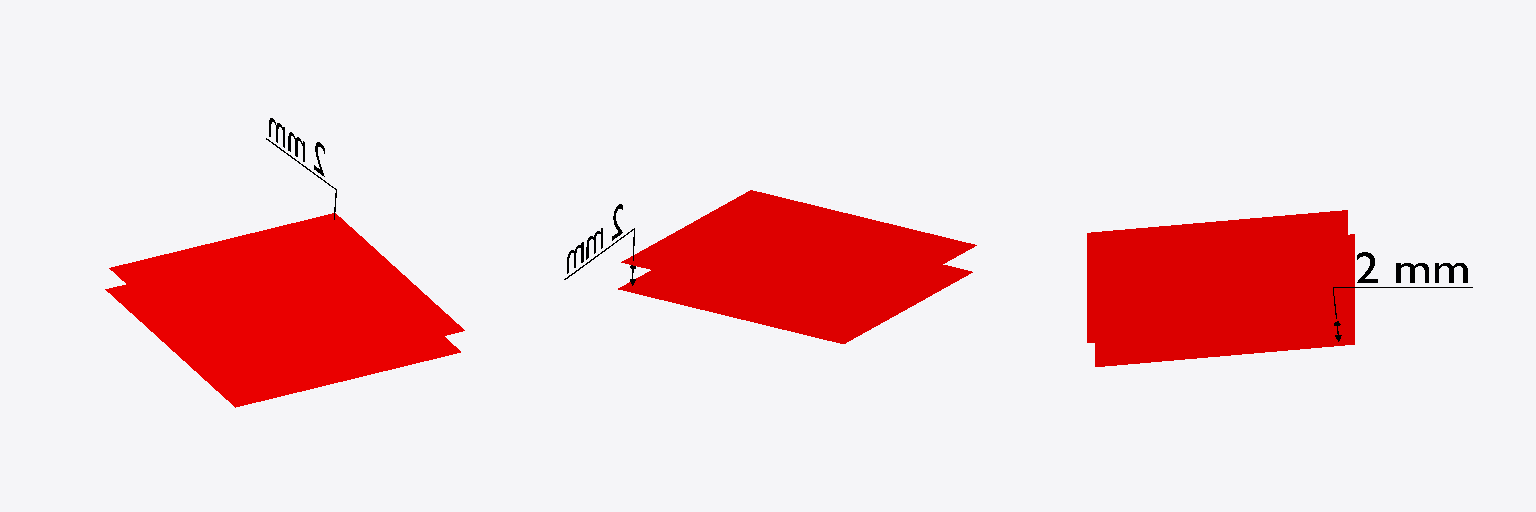
3 renders of one model, left to right at view 1: azimuth 30°, elevation 25°; view 2: azimuth 150°, elevation 25°; view 3: azimuth 270°, elevation 25°, orthographic.
Parts seen in each view (by area): view 1: ZT; view 2: ZT; view 3: ZT, Text.
Boxes of the visible parts, x1,y1,x2,y2 form: ZT: [105, 213, 464, 407]; ZT: [618, 190, 976, 343]; ZT: [1087, 210, 1354, 366]; Text: [1357, 252, 1467, 282].
Size of the model in its own units: 3.62 by 1.72 by 5.34.